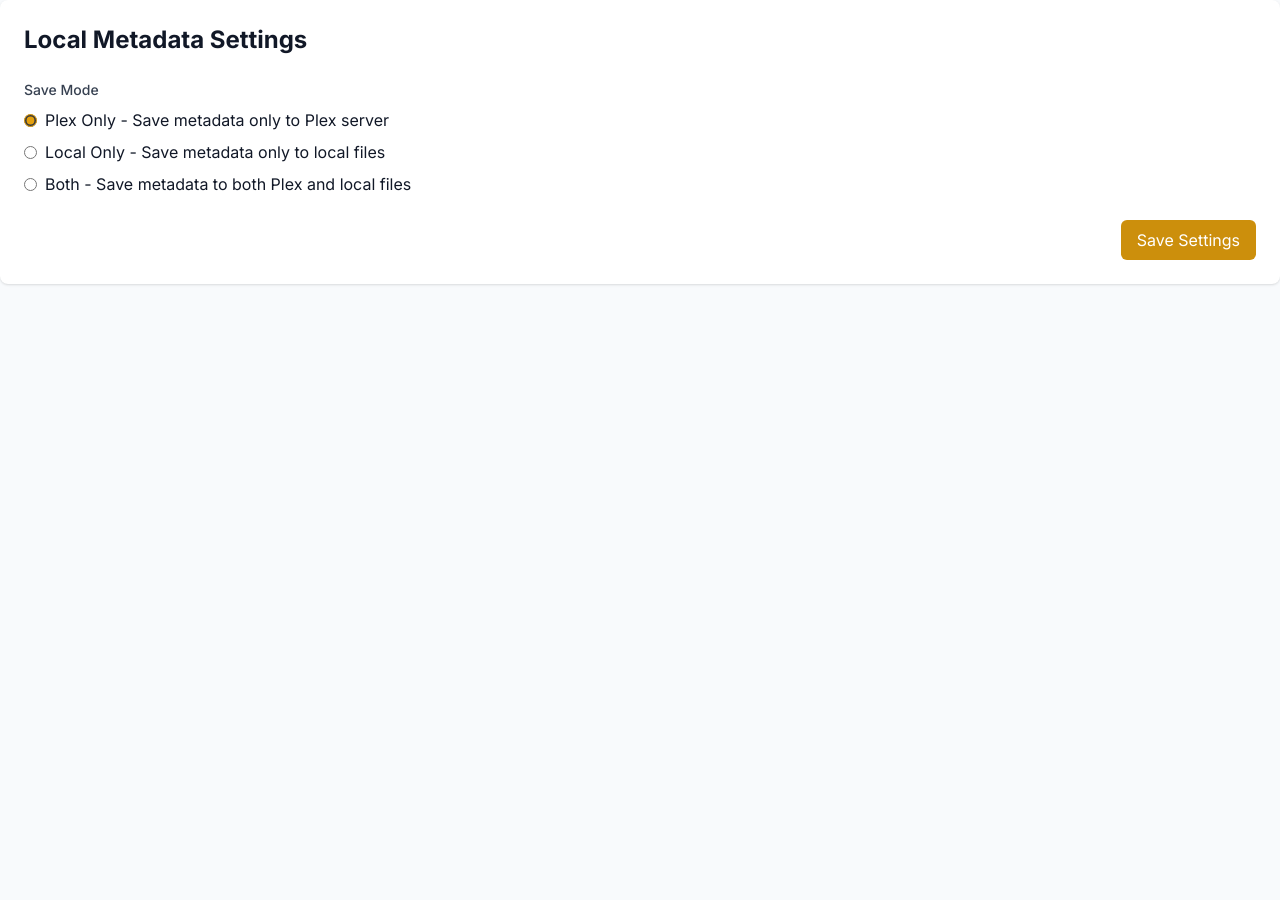
Test: LocalMetadataSettings › should show local format options when local or both is selected
This screenshot has width=1280, height=900.
expect the text "Local Format" is not shown: met
Select "Both"
Click the radio button labelled "Both - Save metadata to both Plex and local files" at (30, 184), box [24,178,37,190]
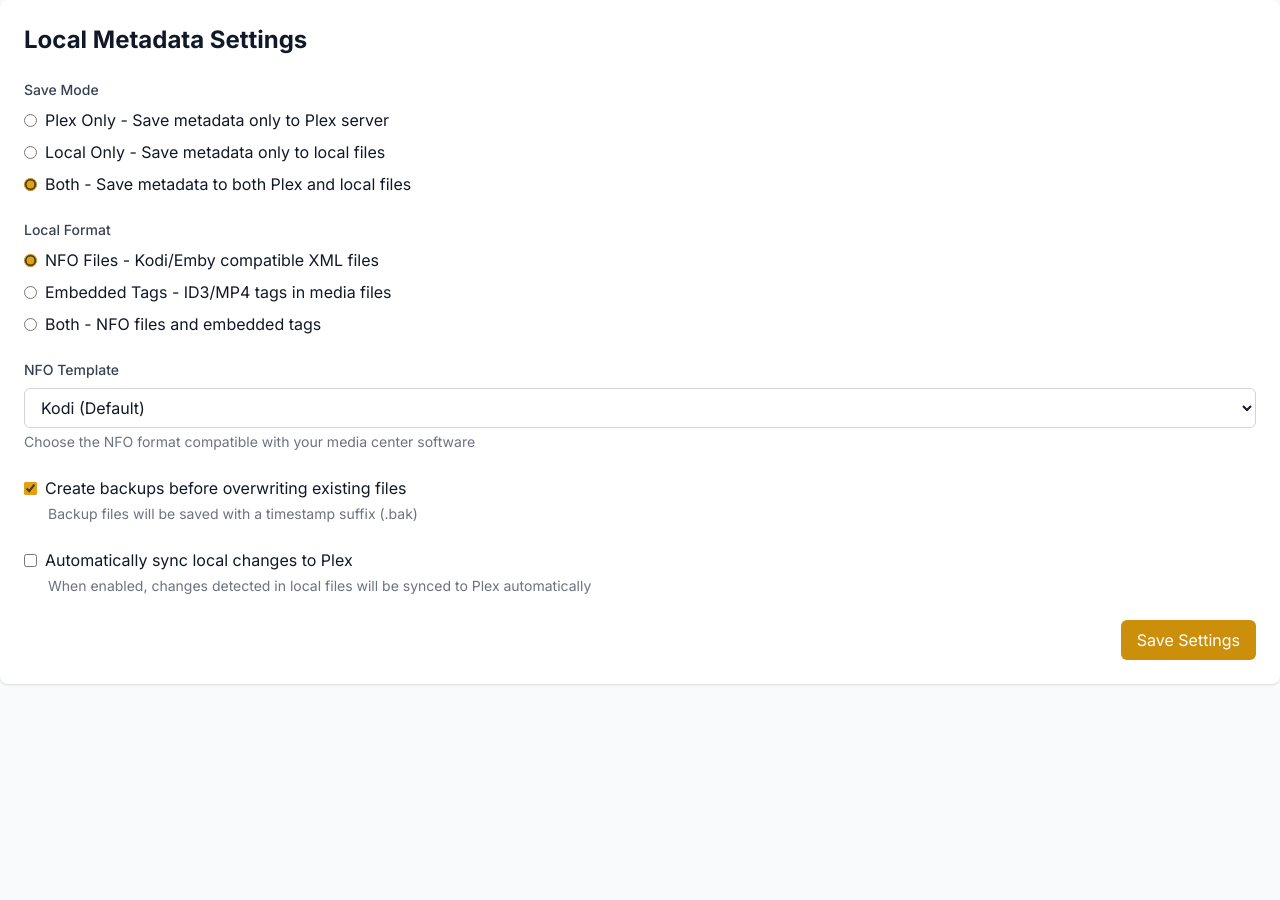
expect the text "Local Format" is shown: met, box [24,221,111,238]
